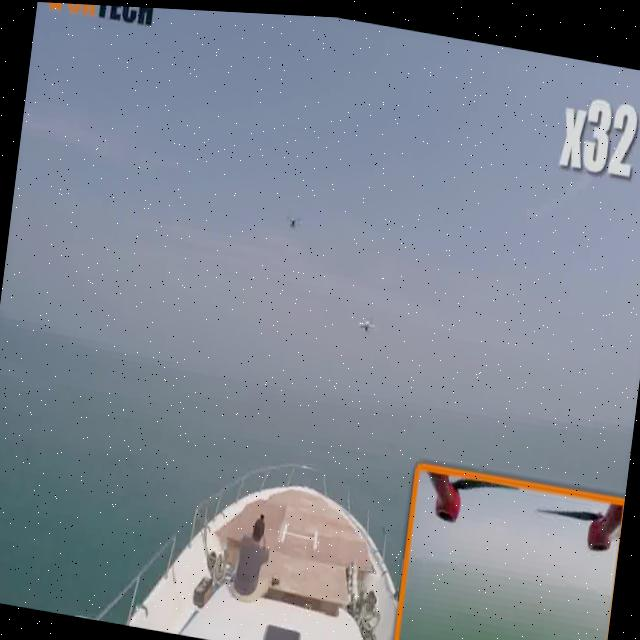drone: (274, 192, 308, 237), (352, 301, 382, 340)
